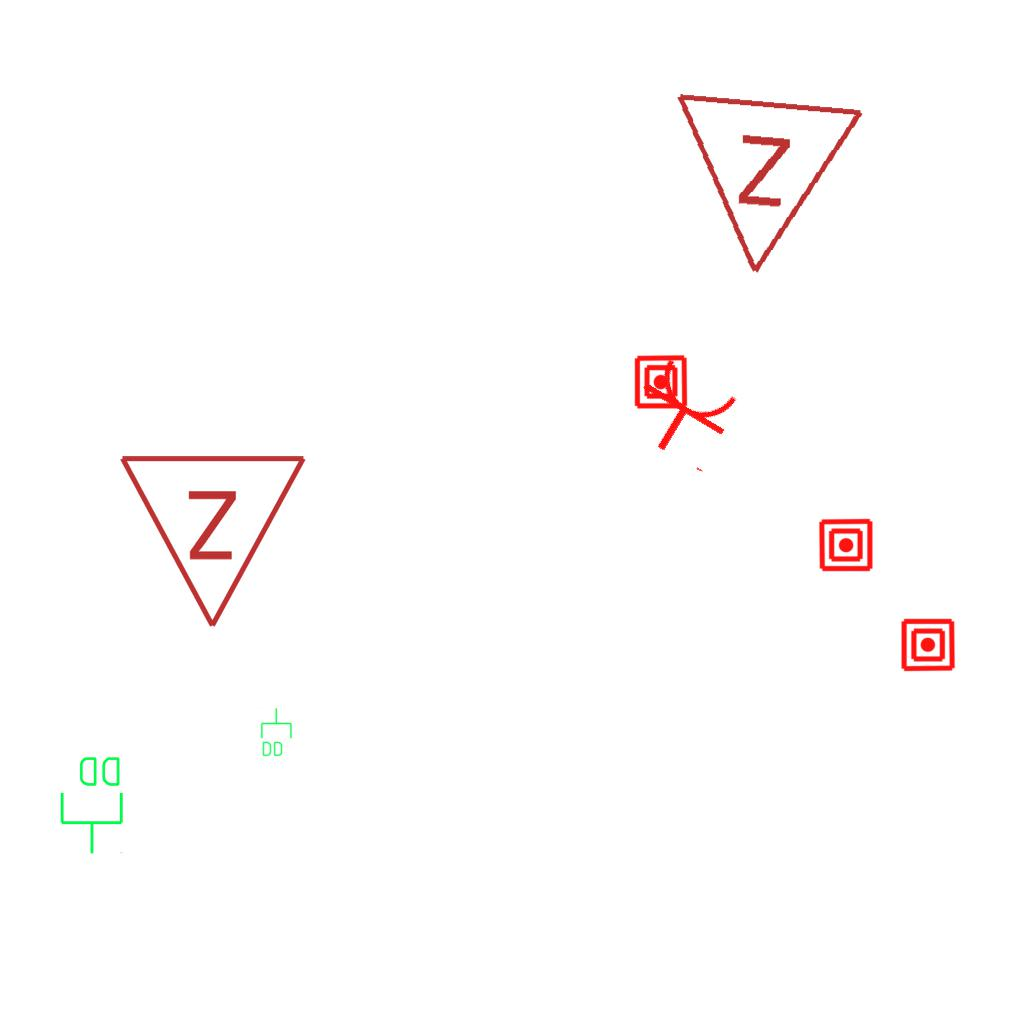Datenanschluss_zweifach: (58, 753, 127, 856), (259, 707, 293, 758)
NAM-Nichtautomatischer_Melder: (818, 517, 874, 573), (900, 617, 956, 673), (633, 354, 689, 410)
Schukosteckdose_einfach: (618, 350, 749, 478)
Zimmersignalleuchte: (658, 78, 872, 296), (117, 441, 313, 641)
